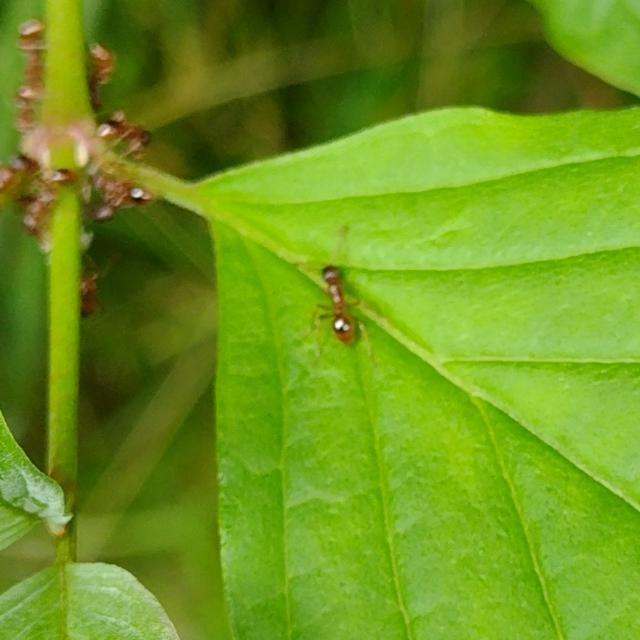Myrmica: (304, 240, 376, 352), (19, 162, 93, 248), (84, 171, 162, 229), (18, 20, 62, 106), (94, 104, 160, 152), (82, 48, 132, 108), (73, 258, 114, 320), (0, 82, 40, 140), (0, 146, 40, 204)
